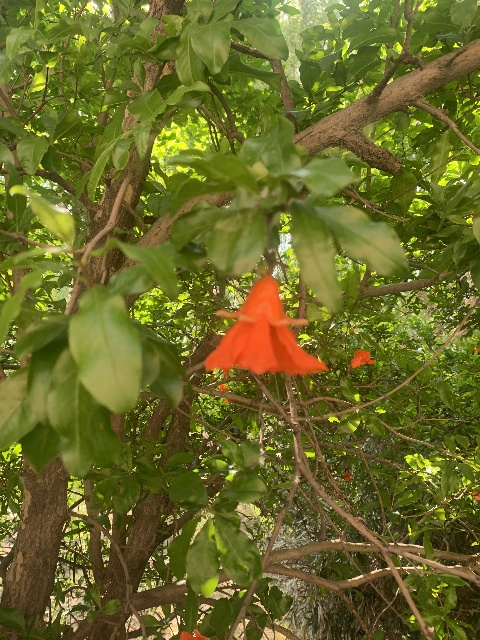bud: (471, 490, 480, 500)
flower: (204, 274, 327, 380), (351, 348, 374, 367), (218, 383, 231, 402), (343, 471, 350, 481)
